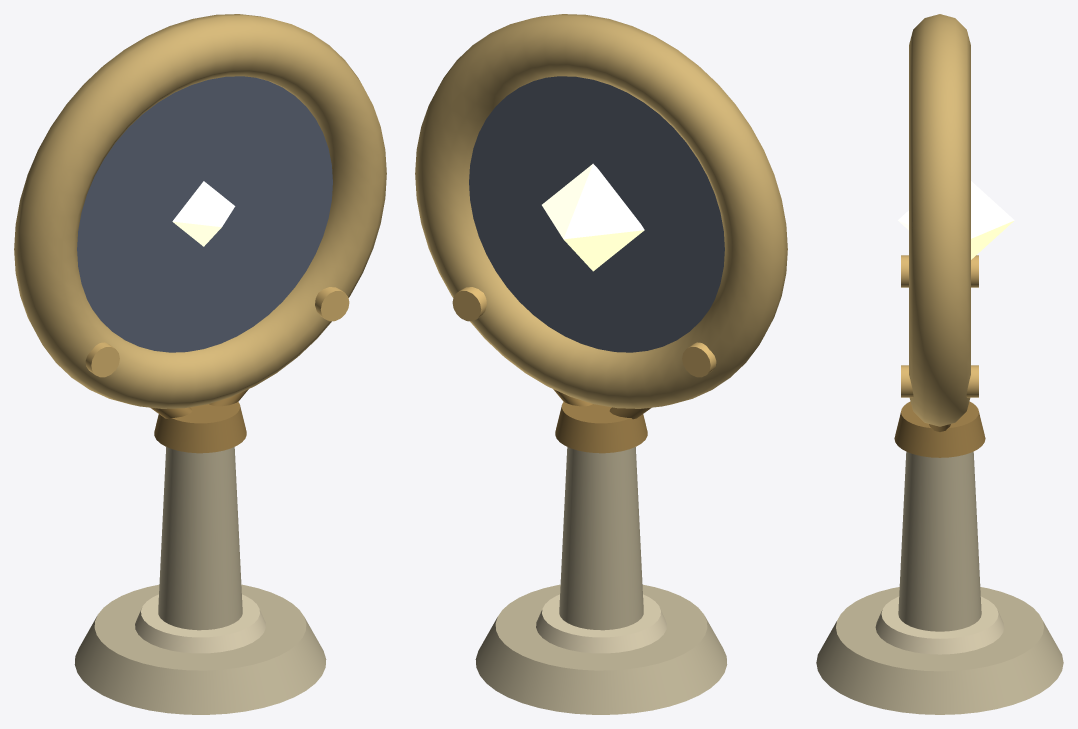
The model's file is mirror-receiver-v01.glb.
3 renders of one model, left to right at view 1: azimuth 30°, elevation 25°; view 2: azimuth 150°, elevation 25°; view 3: azimuth 270°, elevation 25°, orthographic.
Parts seen in each view (by area): view 1: Shadow gold 4, Shadow receiver crystal 5, Shadow sandstone 0, Shadow brass 2, Shadow sandstone light 1, Shadow lamp glow 6, Shadow brass light 3; view 2: Shadow gold 4, Shadow receiver crystal 5, Shadow sandstone 0, Shadow lamp glow 6, Shadow brass 2, Shadow sandstone light 1, Shadow brass light 3; view 3: Shadow sandstone 0, Shadow gold 4, Shadow sandstone light 1, Shadow brass 2, Shadow lamp glow 6, Shadow brass light 3.
Boxes of the visible parts, left/top/right/bottom form: Shadow gold 4: left=14, top=14, right=386, bottom=408; Shadow receiver crystal 5: left=77, top=76, right=332, bottom=352; Shadow sandstone 0: left=74, top=447, right=326, bottom=714; Shadow brass 2: left=150, top=389, right=248, bottom=453; Shadow sandstone light 1: left=135, top=594, right=265, bottom=653; Shadow lamp glow 6: left=172, top=181, right=235, bottom=246; Shadow brass light 3: left=85, top=287, right=349, bottom=377; Shadow gold 4: left=415, top=14, right=787, bottom=408; Shadow receiver crystal 5: left=469, top=76, right=724, bottom=352; Shadow sandstone 0: left=475, top=447, right=727, bottom=714; Shadow lamp glow 6: left=542, top=163, right=644, bottom=271; Shadow brass 2: left=553, top=389, right=651, bottom=453; Shadow sandstone light 1: left=536, top=594, right=666, bottom=653; Shadow brass light 3: left=452, top=287, right=716, bottom=377; Shadow sandstone 0: left=816, top=451, right=1063, bottom=714; Shadow gold 4: left=909, top=14, right=970, bottom=426; Shadow sandstone light 1: left=875, top=596, right=1004, bottom=654; Shadow brass 2: left=894, top=401, right=985, bottom=457; Shadow lamp glow 6: left=898, top=181, right=1014, bottom=259; Shadow brass light 3: left=901, top=255, right=978, bottom=397.
Bounding box in the file's own units: 1.27 × 2.13 × 0.76.
